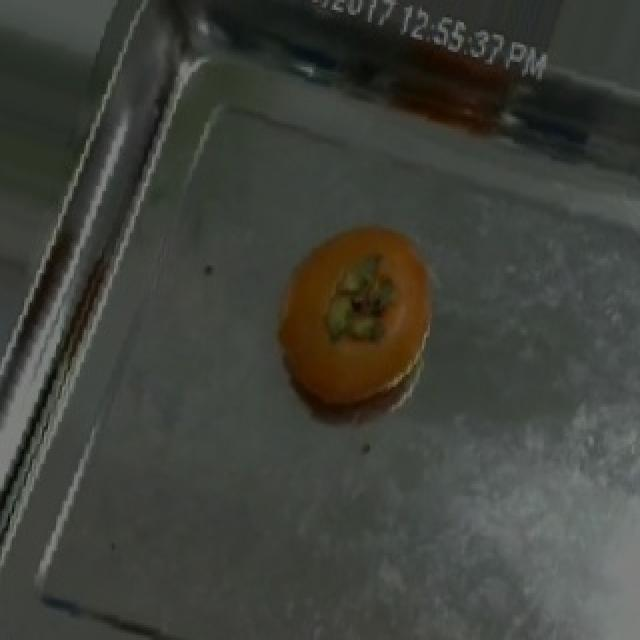Fruit: (250, 206, 462, 432)
